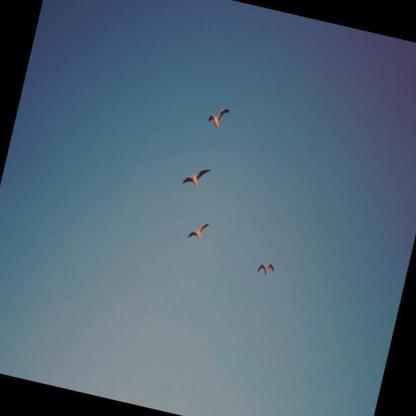bird: (180, 162, 213, 194), (205, 102, 233, 134), (185, 217, 211, 245), (255, 260, 277, 279)
